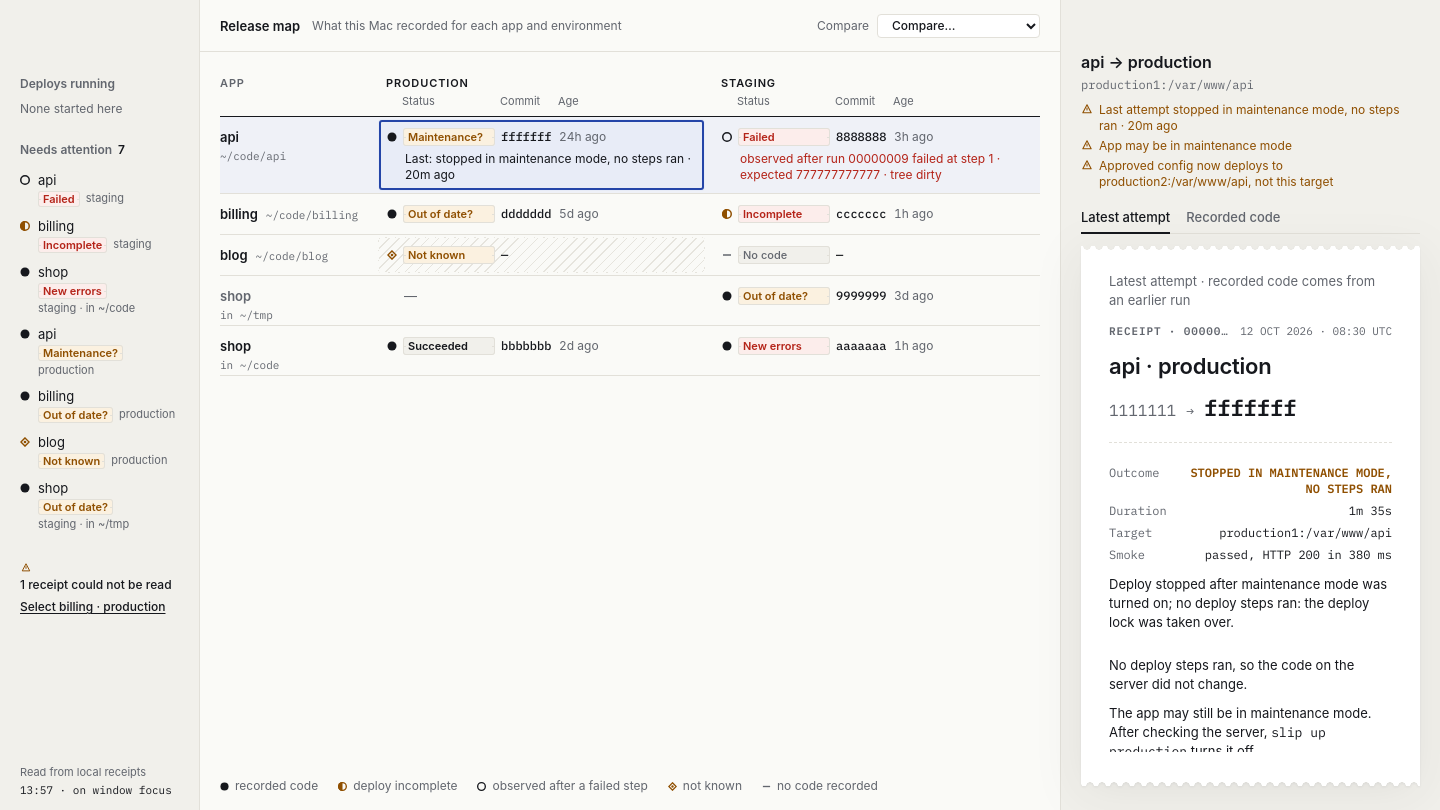
Test: a failed latest attempt opens before the older success; other cells open their code run
The width and height of the screenshot is (1440, 810).
Expected: the text "Latest attempt · recorded code comes from an earlier run" is shown, [1109, 272, 1392, 310]
Click the cell "Incomplete ccccccc 1h ago" at (828, 214), box [722, 205, 933, 223]
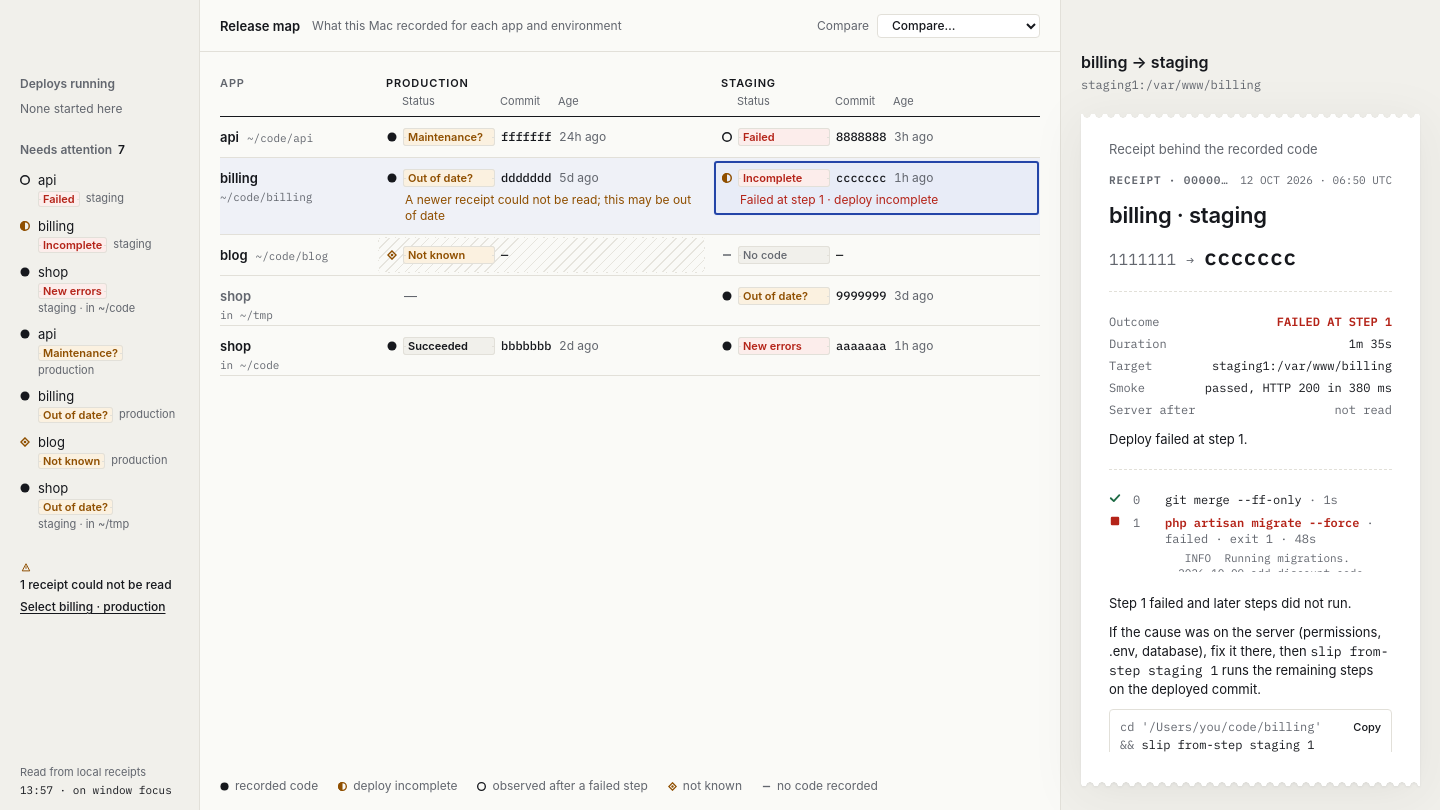
Now the heading "billing · staging" is shown, box [1109, 202, 1267, 228]
